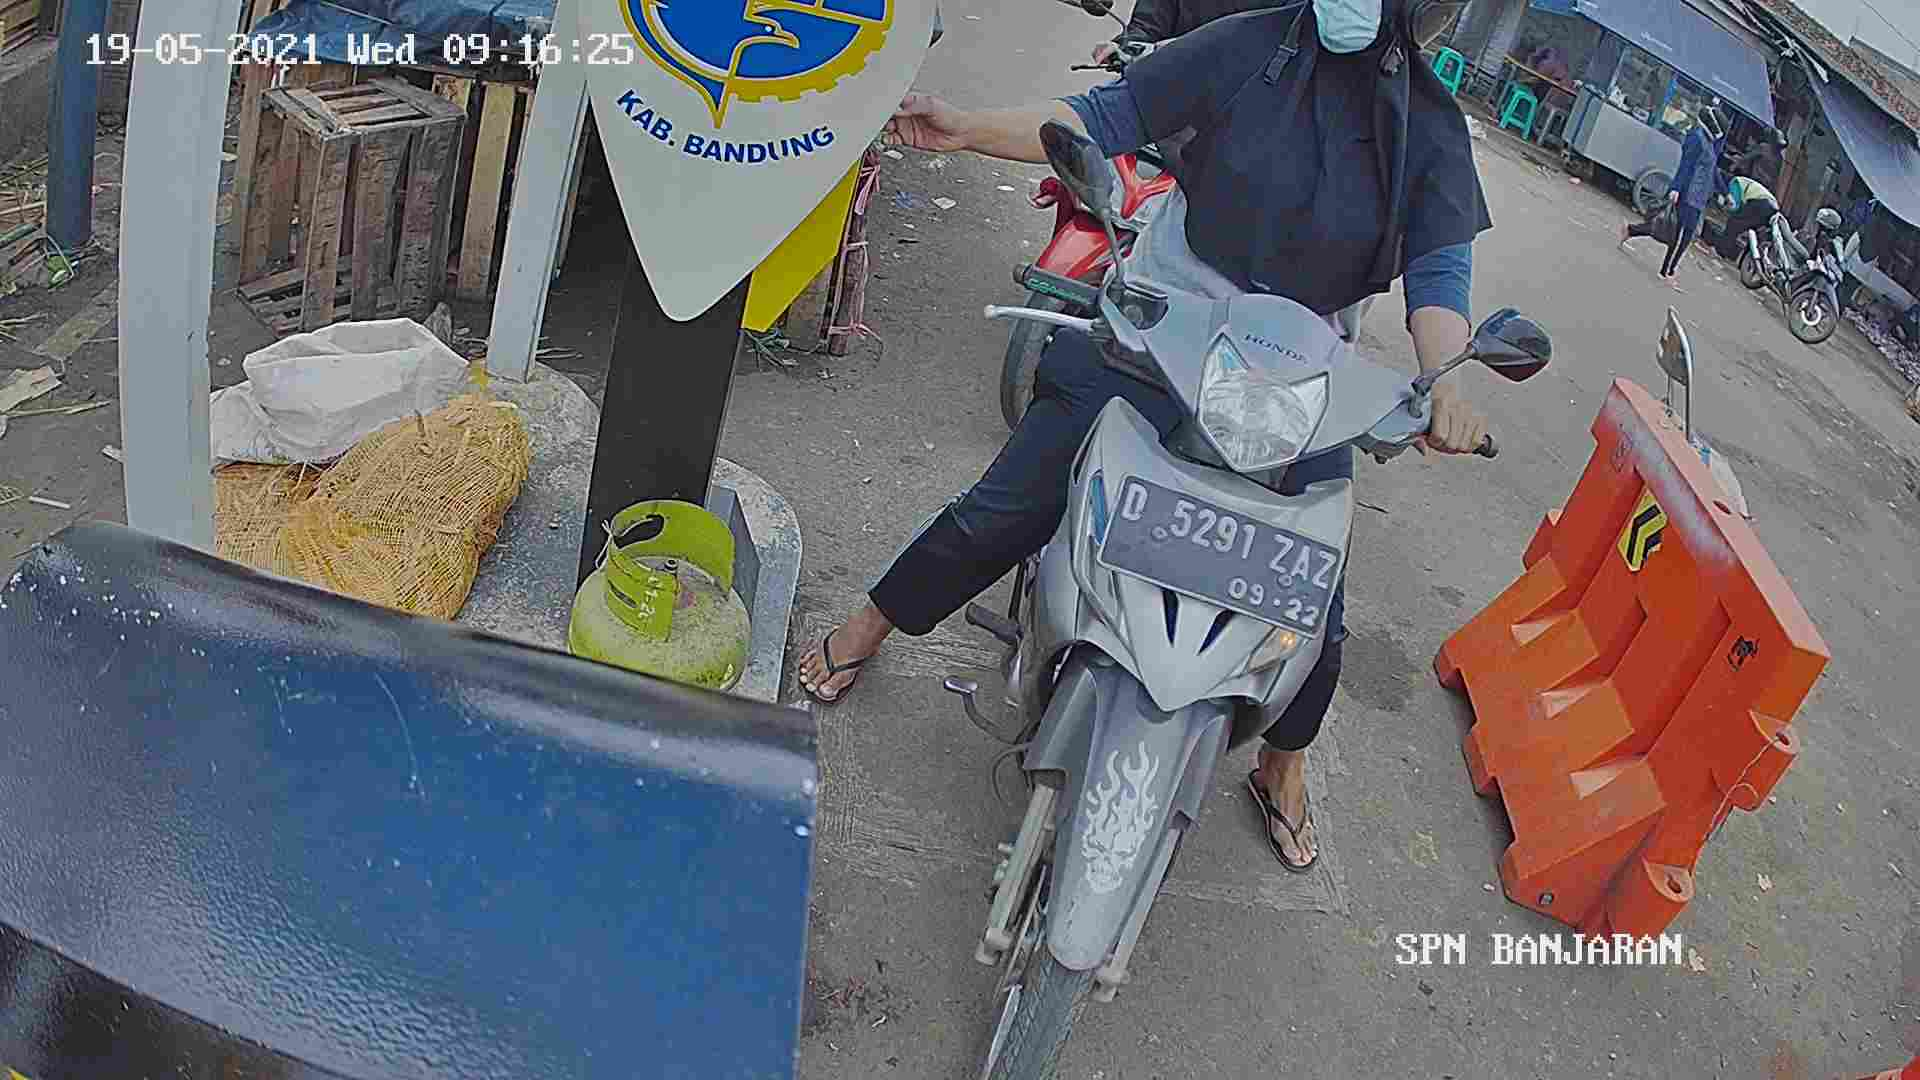motor: (951, 260, 1369, 1080)
